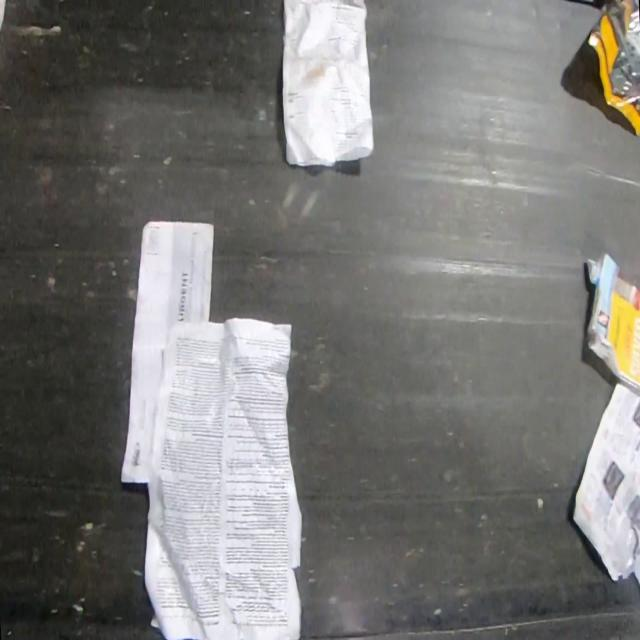cardboard: (585, 249, 640, 443)
soft_plastic: (587, 0, 640, 140)
